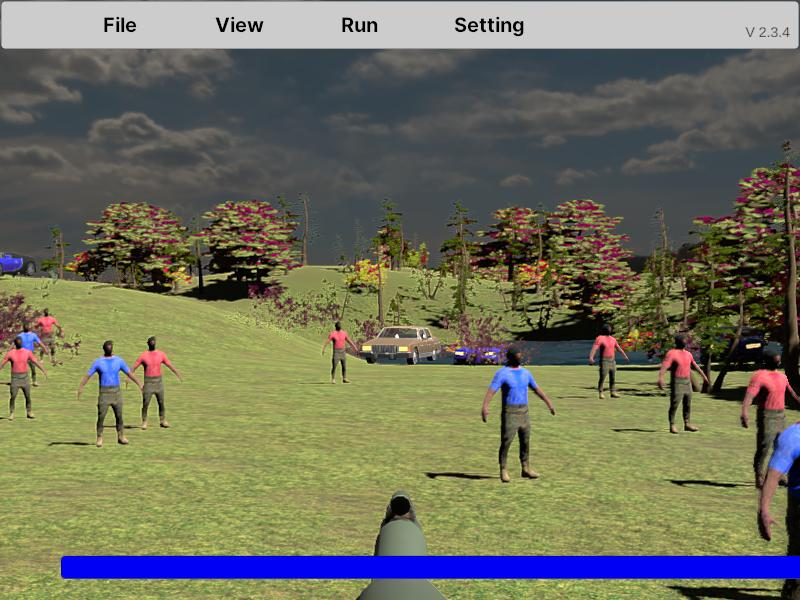Human: (482, 344, 555, 482), (741, 345, 800, 495), (761, 378, 800, 600), (77, 341, 142, 447), (128, 336, 182, 430), (128, 336, 182, 429), (658, 334, 708, 433), (0, 337, 46, 420), (0, 336, 44, 421), (591, 323, 629, 400), (11, 321, 47, 382), (323, 321, 357, 384), (36, 308, 63, 366)
car: (361, 325, 441, 364), (0, 250, 39, 279)
